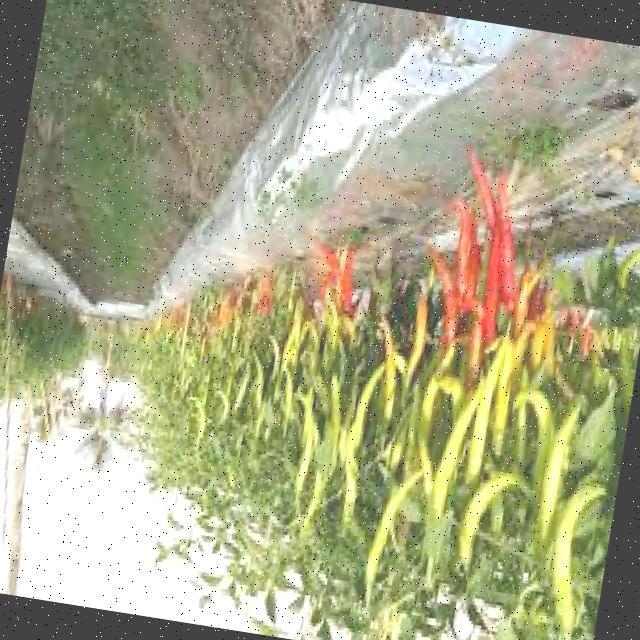healthy: (95, 99, 640, 640)
